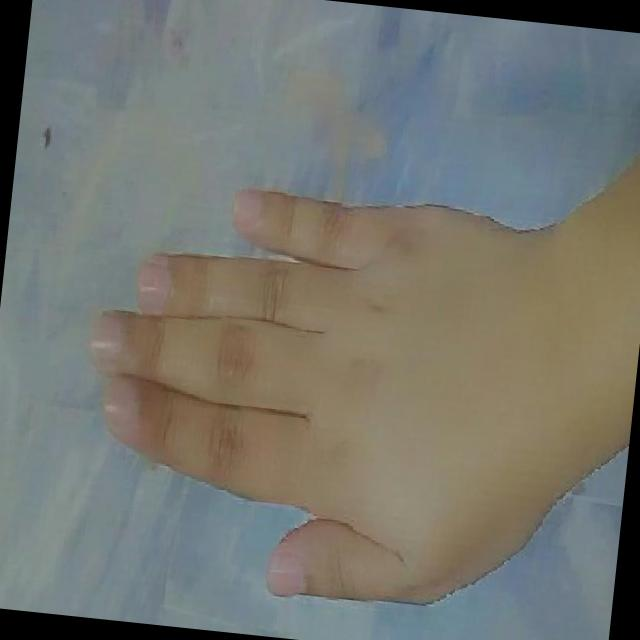Nail: (136, 257, 172, 315), (92, 308, 123, 370), (103, 375, 137, 421), (269, 554, 306, 592), (232, 189, 264, 230)
